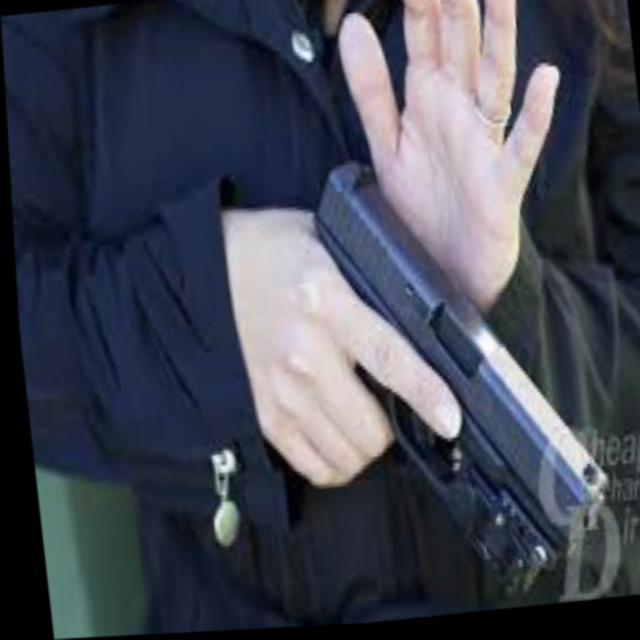weapon: (301, 136, 614, 622)
